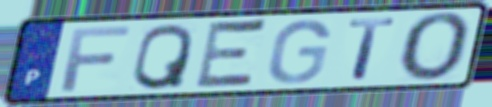E: (191, 17, 271, 91)
F: (58, 24, 134, 94)
G: (264, 18, 333, 86)
O: (397, 10, 476, 84)
Q: (129, 21, 197, 92)
T: (345, 16, 400, 82)
